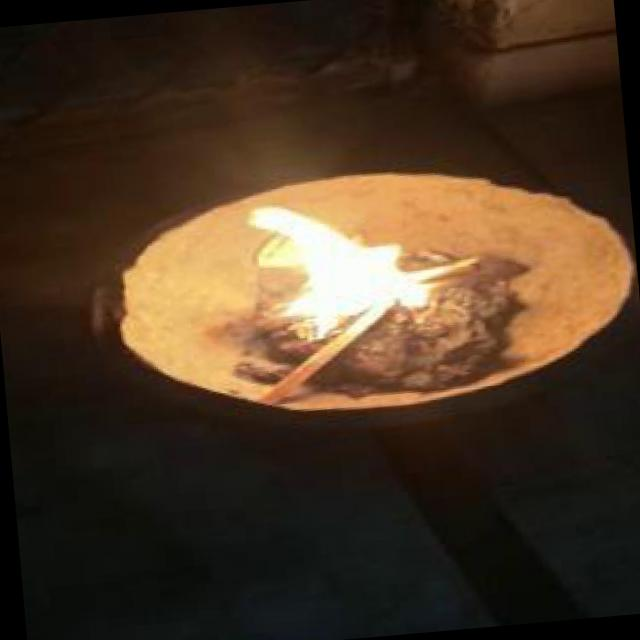fire: (223, 184, 472, 341)
